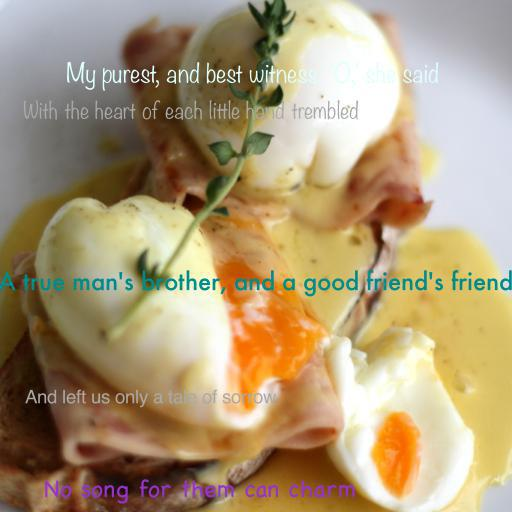Chalkboard: (43, 479, 355, 504)
Futura: (0, 270, 512, 297)
Impact: (24, 389, 276, 408)
Noteworthy: (65, 61, 439, 91), (23, 100, 359, 120)
